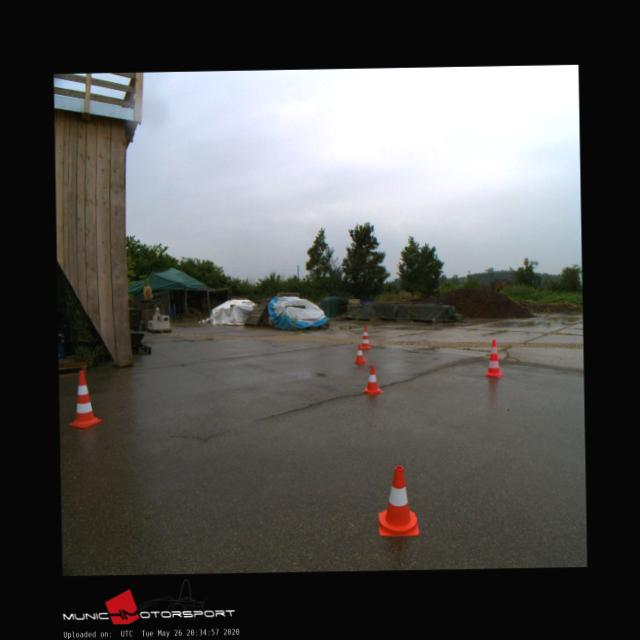large_orange_cone: (68, 368, 102, 428), (482, 338, 502, 376), (360, 324, 371, 348)
orange_cone: (377, 465, 418, 535), (362, 366, 382, 394), (352, 344, 366, 363)
